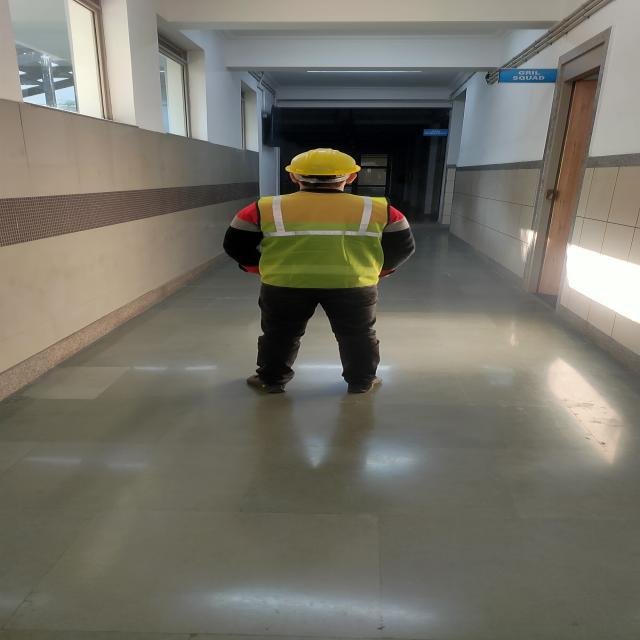safe: (222, 148, 416, 392)
